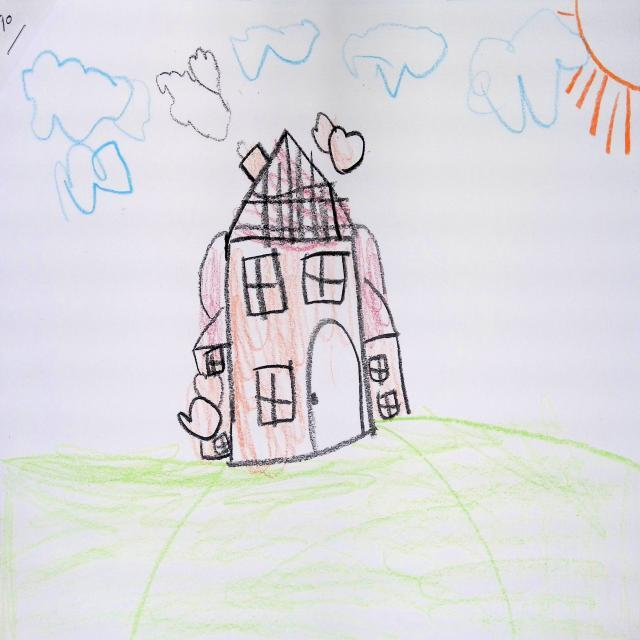chimney: (240, 143, 269, 181)
door: (309, 320, 364, 453)
house: (180, 131, 410, 466)
roof: (223, 128, 360, 245), (356, 273, 403, 349), (192, 306, 230, 354)
wall: (228, 238, 373, 467)
window: (243, 250, 287, 314), (256, 366, 296, 426), (304, 252, 350, 304), (204, 348, 225, 376), (380, 392, 401, 420), (370, 356, 390, 384), (213, 432, 231, 456)
